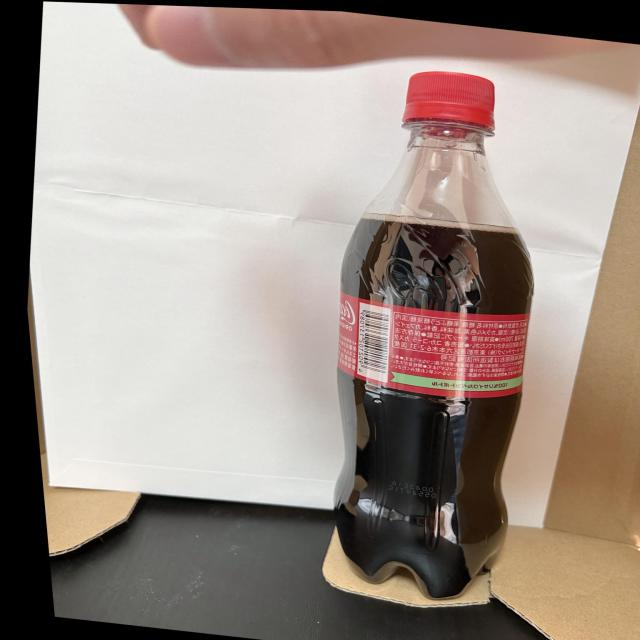high: (335, 72, 533, 598)
